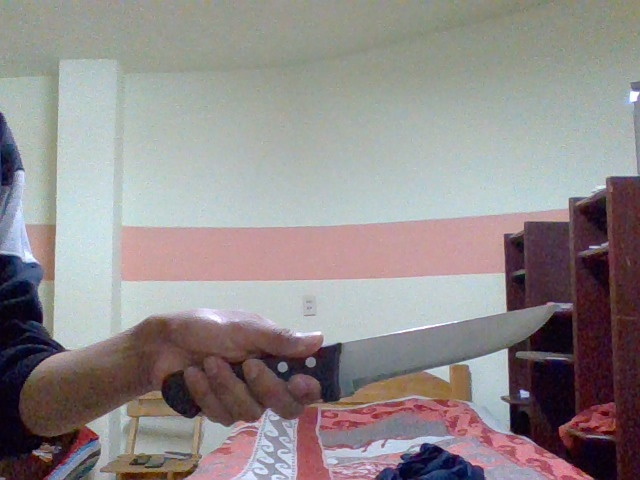cuchillo: (149, 293, 570, 433)
